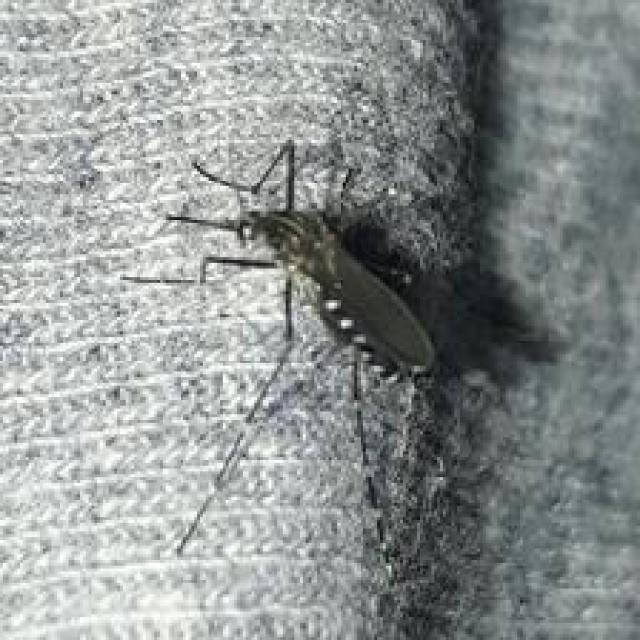Aedes albopictus: (122, 135, 444, 556)
